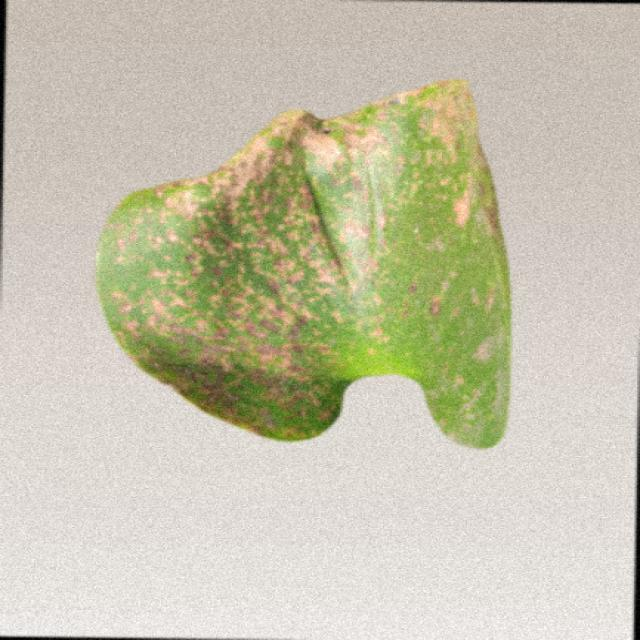daun berpenyakit bercak: (97, 81, 510, 447)
